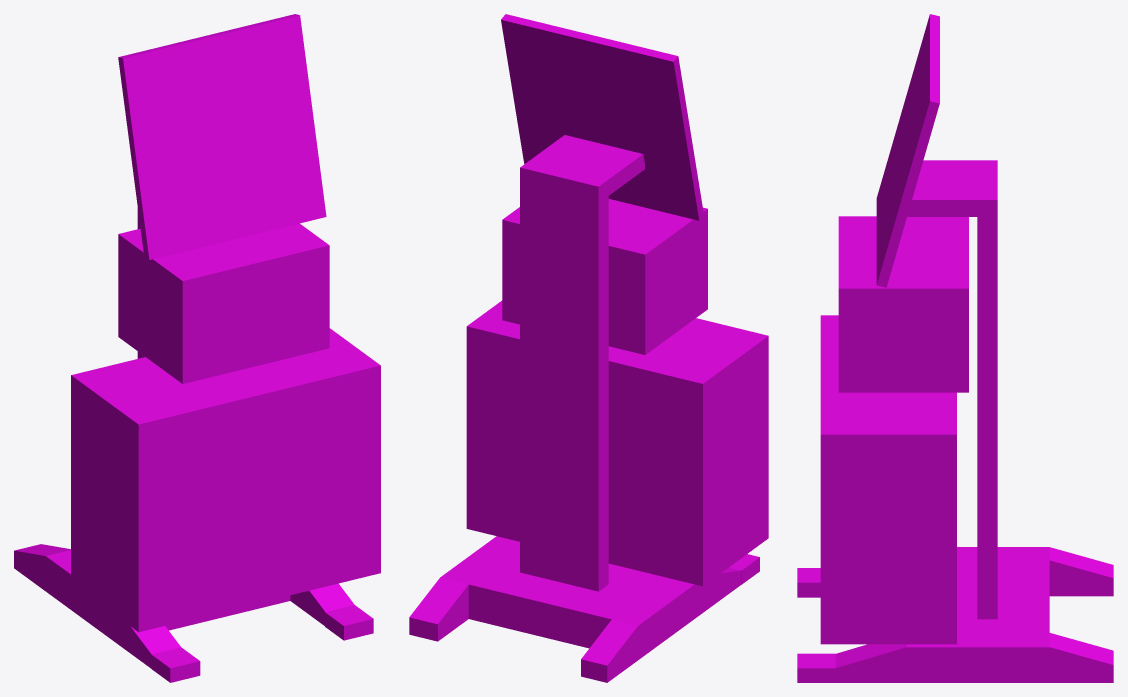
The model's file is SM_MachineDCollider.fbx.
The picture shows the model from 3 angles, left to right: view 1: azimuth 30°, elevation 25°; view 2: azimuth 150°, elevation 25°; view 3: azimuth 270°, elevation 25°; orthographic projection. The views are drawn at different scales.
Visible parts, largest first — view 1: MachineDCollision; view 2: MachineDCollision; view 3: MachineDCollision.
Part boxes in pixels (x1=…): MachineDCollision: x1=14, y1=14, x2=380, y2=682; MachineDCollision: x1=409, y1=14, x2=768, y2=682; MachineDCollision: x1=797, y1=14, x2=1113, y2=682.
Size of the model in its own units: 69 by 156 by 77.23.
